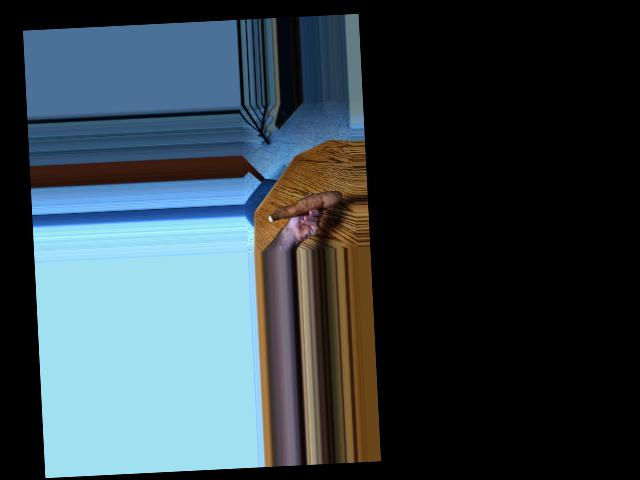sweet_potato: (268, 186, 340, 223)
